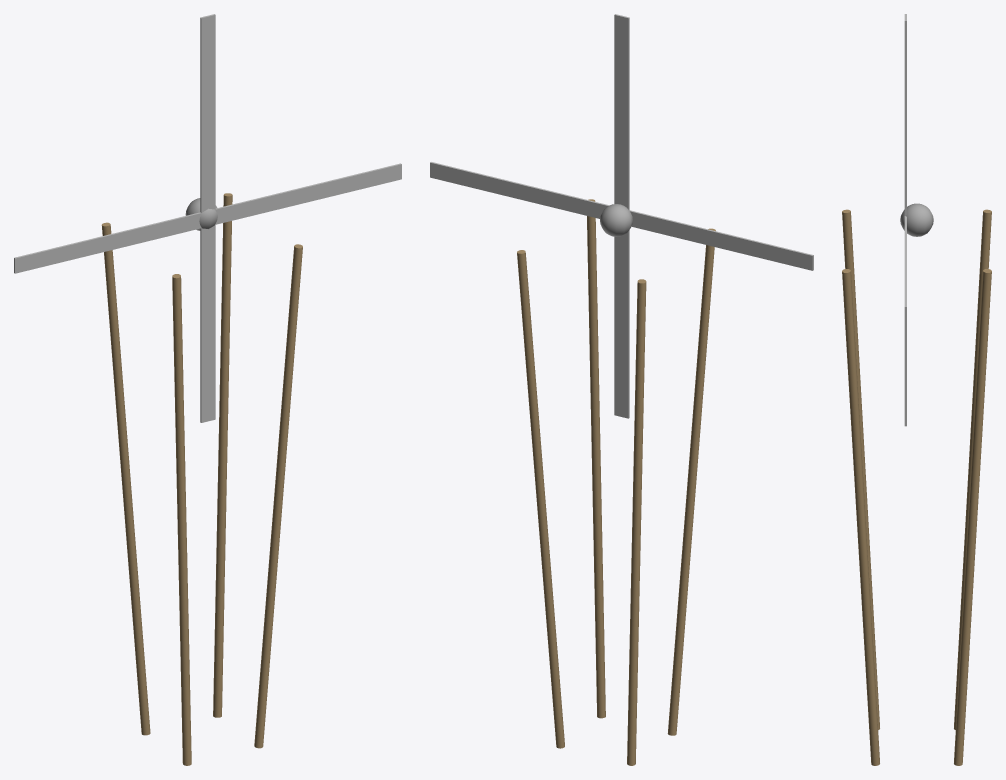
Rendered from env-ww-windmill.glb.
3 views of the same model, side by side, from view 1: azimuth 30°, elevation 25°; view 2: azimuth 150°, elevation 25°; view 3: azimuth 270°, elevation 25° (orthographic).
Bounding box in the file's own units: 4 × 7.2 × 1.34.
